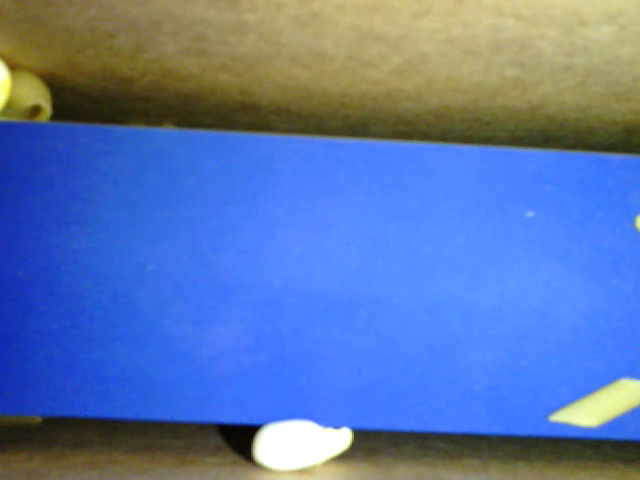penne: (546, 379, 638, 429)
shell: (3, 70, 55, 129)
